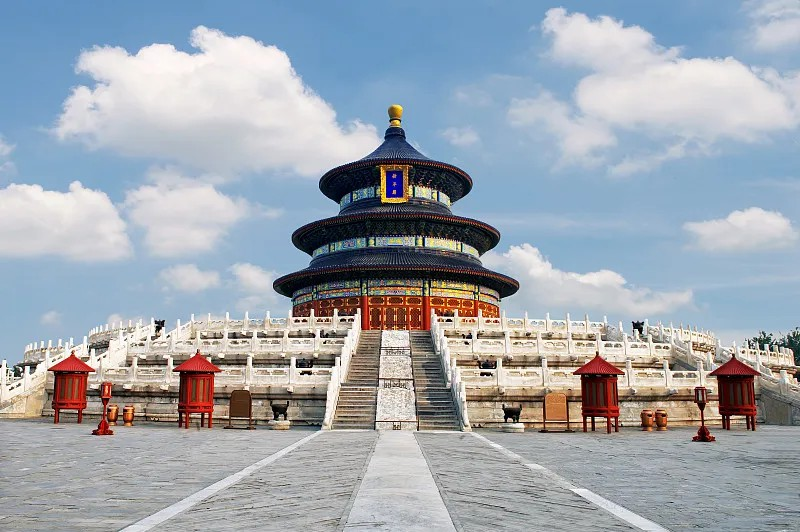Heaven: (271, 104, 521, 330)
